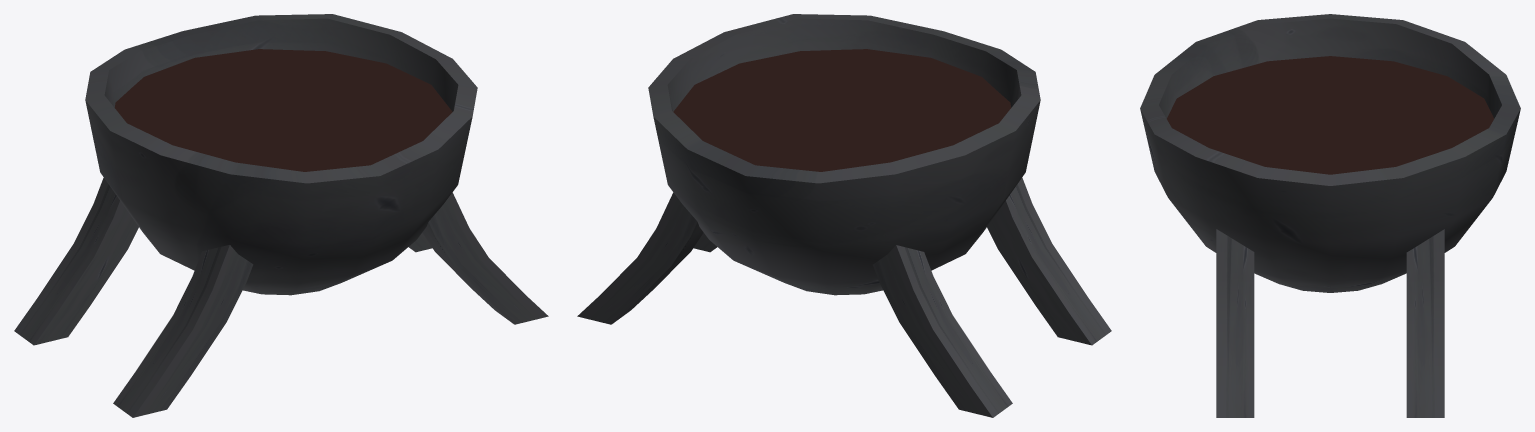
Rendered from caldero_mediano.glb.
3 views of the same model, side by side, from view 1: azimuth 30°, elevation 25°; view 2: azimuth 150°, elevation 25°; view 3: azimuth 270°, elevation 25° (orthographic). The views are drawn at different scales.
Parts seen in each view (by area): view 1: Caldero, Brasas, Pata01, Pata03, Pata02; view 2: Caldero, Brasas, Pata03, Pata01, Pata04; view 3: Caldero, Brasas, Pata02, Pata04.
Part boxes in pixels (x1,y1,x2,y2): Caldero: [85, 14, 477, 295]; Brasas: [114, 49, 452, 171]; Pata01: [113, 245, 253, 417]; Pata03: [14, 178, 138, 345]; Pata02: [422, 192, 548, 324]; Caldero: [648, 14, 1040, 295]; Brasas: [673, 49, 1010, 171]; Pata03: [873, 245, 1012, 417]; Pata01: [987, 178, 1111, 345]; Pata04: [577, 192, 703, 324]; Caldero: [1140, 14, 1520, 292]; Brasas: [1167, 56, 1493, 174]; Pata02: [1216, 229, 1254, 417]; Pata04: [1406, 229, 1444, 417].
Bounding box in the file's own units: 2.43 × 1.33 × 2.
2 materials, 2 textured.
